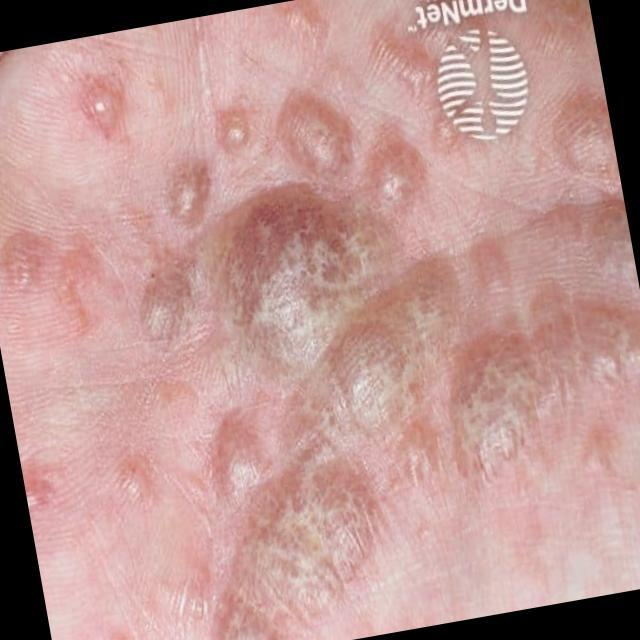Eczema: (0, 1, 640, 629)
